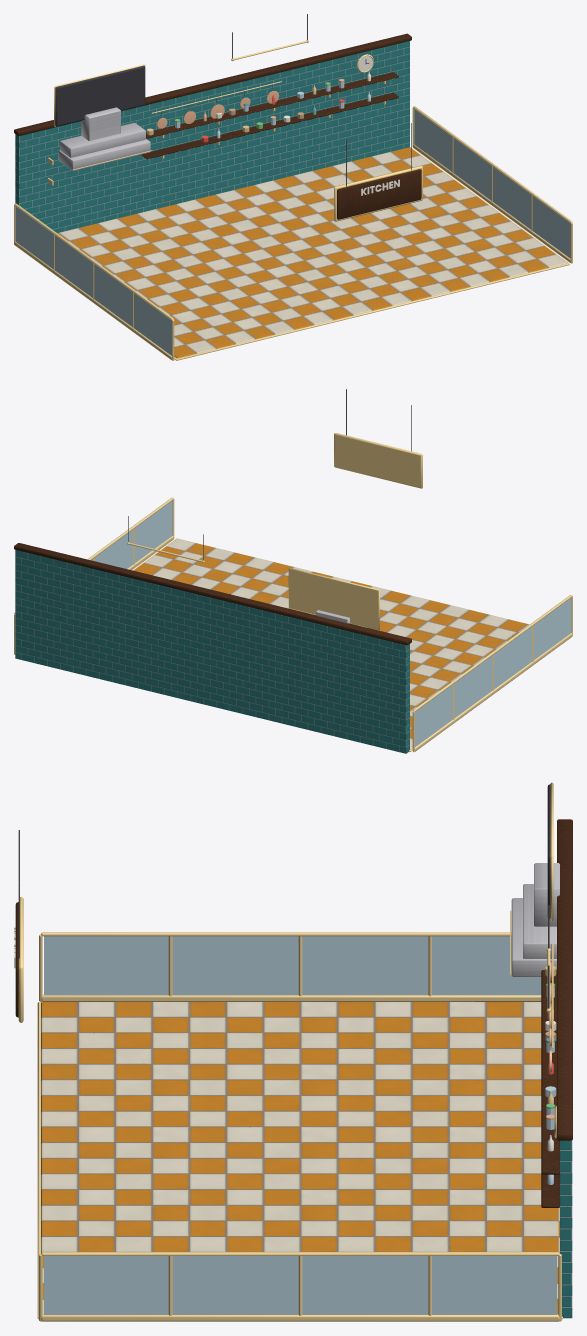
The model's file is kr_layD_shell.glb.
3 renders of one model, top to bottom at view 1: azimuth 30°, elevation 25°; view 2: azimuth 150°, elevation 25°; view 3: azimuth 270°, elevation 25°, orthographic. The views are drawn at different scales.
Parts seen in each view (by area): view 1: kr_layD_shell_checker4, kr_layD_shell_subway_teal, vc_m0_r2, kr_layD_shell_darkwood, vc_m8_r2, vc_m0_r4, kr_layD_shell_steel, vc_m8_r4; view 2: kr_layD_shell_subway_teal, kr_layD_shell_checker4, vc_m8_r2, vc_m0_r2, kr_layD_shell_darkwood; view 3: kr_layD_shell_checker4, vc_m0_r2, vc_m8_r2, kr_layD_shell_darkwood, kr_layD_shell_steel, kr_layD_shell_subway_teal, vc_m0_r4, vc_m8_r4.
Part boxes in pixels (left/top/right/bottom): kr_layD_shell_checker4: left=57, top=147, right=567, bottom=358; kr_layD_shell_subway_teal: left=15, top=41, right=409, bottom=232; vc_m0_r2: left=15, top=82, right=570, bottom=355; kr_layD_shell_darkwood: left=14, top=33, right=421, bottom=219; vc_m8_r2: left=14, top=40, right=572, bottom=360; vc_m0_r4: left=55, top=56, right=399, bottom=195; kr_layD_shell_steel: left=58, top=107, right=150, bottom=170; vc_m8_r4: left=157, top=14, right=411, bottom=186; kr_layD_shell_subway_teal: left=15, top=550, right=409, bottom=753; kr_layD_shell_checker4: left=134, top=538, right=529, bottom=749; vc_m8_r2: left=14, top=433, right=572, bottom=752; vc_m0_r2: left=91, top=500, right=571, bottom=746; kr_layD_shell_darkwood: left=14, top=543, right=411, bottom=645; kr_layD_shell_checker4: left=41, top=1002, right=559, bottom=1314; vc_m0_r2: left=44, top=936, right=556, bottom=1314; vc_m8_r2: left=18, top=782, right=562, bottom=1321; kr_layD_shell_darkwood: left=15, top=819, right=572, bottom=1207; kr_layD_shell_steel: left=511, top=863, right=559, bottom=976; kr_layD_shell_subway_teal: left=560, top=1140, right=572, bottom=1318; vc_m0_r4: left=14, top=784, right=556, bottom=1151; vc_m8_r4: left=18, top=830, right=554, bottom=1119.
Size of the model in its own units: 12.32 by 5.46 by 9.05.
11 materials, 4 textured.
